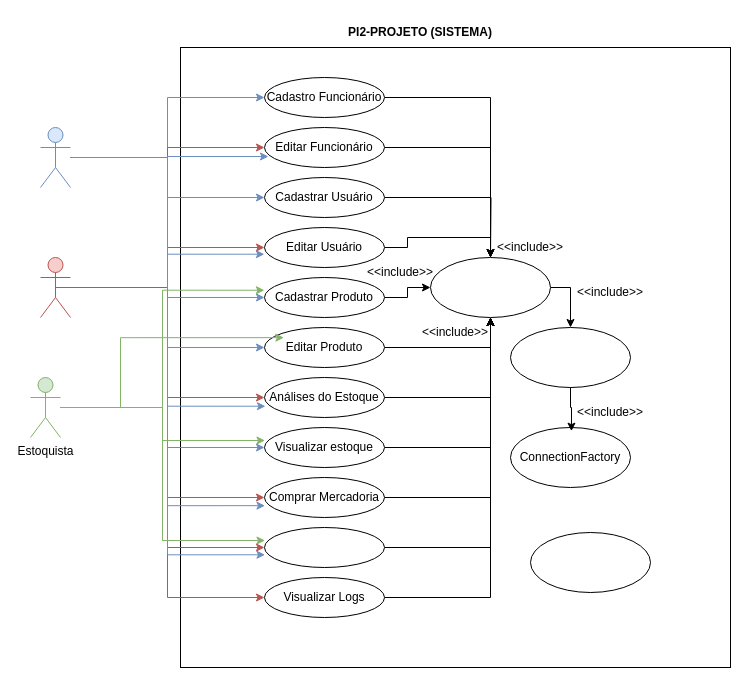
Image size: 748x685. Some labels were removed from this diagram. Each missing label, with the centre of its shape:
"Administrador" goes at point 55,287.
"DAOs" goes at point 570,357.
"DatabaseInitializer" goes at point 590,562.
"Gerente" goes at point 55,157.
"Servlets" goes at point 490,287.
"Status Mercadoria" goes at point 324,547.
